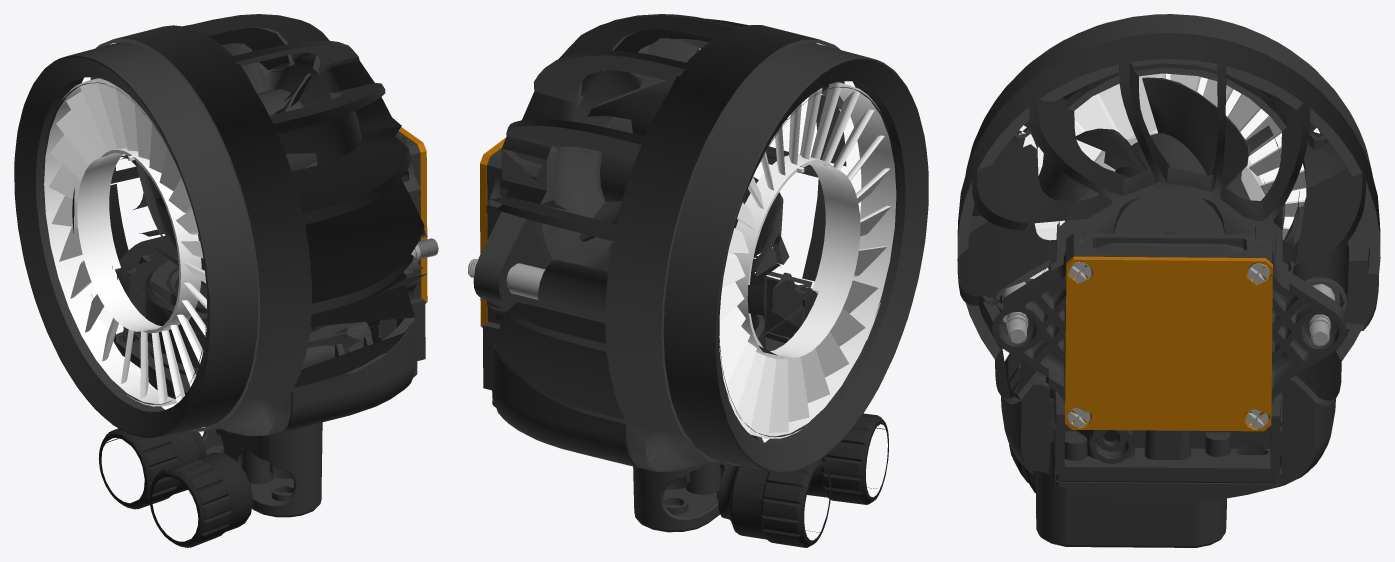
File: ghost_cpu_block.glb
3 views of the same model, side by side, from view 1: azimuth 30°, elevation 25°; view 2: azimuth 150°, elevation 25°; view 3: azimuth 270°, elevation 25° (orthographic). The views are drawn at different scales.
Visible parts, largest first — view 1: Zylinder-Fan_Plastic, Zylinder-Vent_P4, Empty, Zylinder-Copper; view 2: Zylinder-Fan_Plastic, Zylinder-Vent_P4, Empty, Zylinder-Screws_Metal, Zylinder-Copper; view 3: Zylinder-Fan_Plastic, Zylinder-Copper, Zylinder-Vent_P4, Zylinder-Screws_Metal.
Part boxes in pixels (x1,y1,x2,y2): Zylinder-Fan_Plastic: [14, 14, 427, 517]; Zylinder-Vent_P4: [44, 78, 206, 406]; Empty: [98, 428, 252, 547]; Zylinder-Copper: [398, 127, 427, 303]; Zylinder-Fan_Plastic: [473, 14, 928, 532]; Zylinder-Vent_P4: [719, 82, 896, 438]; Empty: [718, 413, 888, 547]; Zylinder-Screws_Metal: [468, 258, 545, 299]; Zylinder-Copper: [480, 138, 505, 328]; Zylinder-Fan_Plastic: [957, 14, 1380, 547]; Zylinder-Copper: [1065, 256, 1272, 431]; Zylinder-Vent_P4: [1020, 73, 1306, 278]; Zylinder-Screws_Metal: [1002, 262, 1335, 428].
Bounding box in the file's own units: 0.0687 × 0.1095 × 0.0902.
